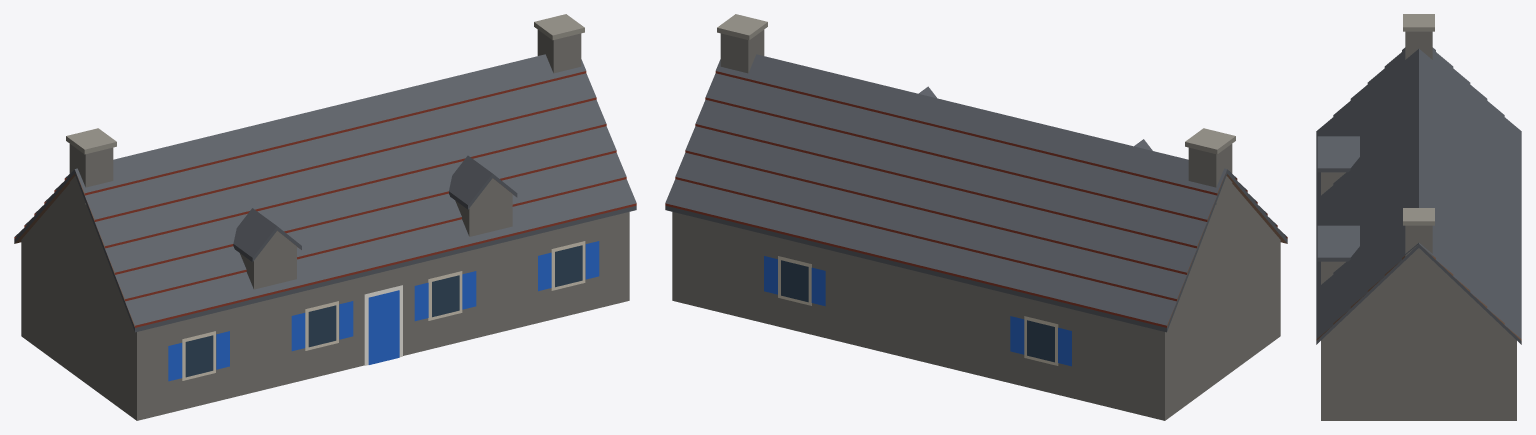
Rendered from longere_bretonne.glb.
The picture shows the model from 3 angles, left to right: view 1: azimuth 30°, elevation 25°; view 2: azimuth 150°, elevation 25°; view 3: azimuth 270°, elevation 25°; orthographic projection. The views are drawn at different scales.
Parts seen in each view (by area): view 1: longere_bretonne; view 2: longere_bretonne; view 3: longere_bretonne.
Boxes of the visible parts, x1,y1,x2,y2 form: longere_bretonne: (14,14,636,420); longere_bretonne: (665,14,1287,420); longere_bretonne: (1316,14,1521,420).
Size of the model in its own units: 16.3 by 7.35 by 6.8.
Materials: 1 (1 with a texture image).
